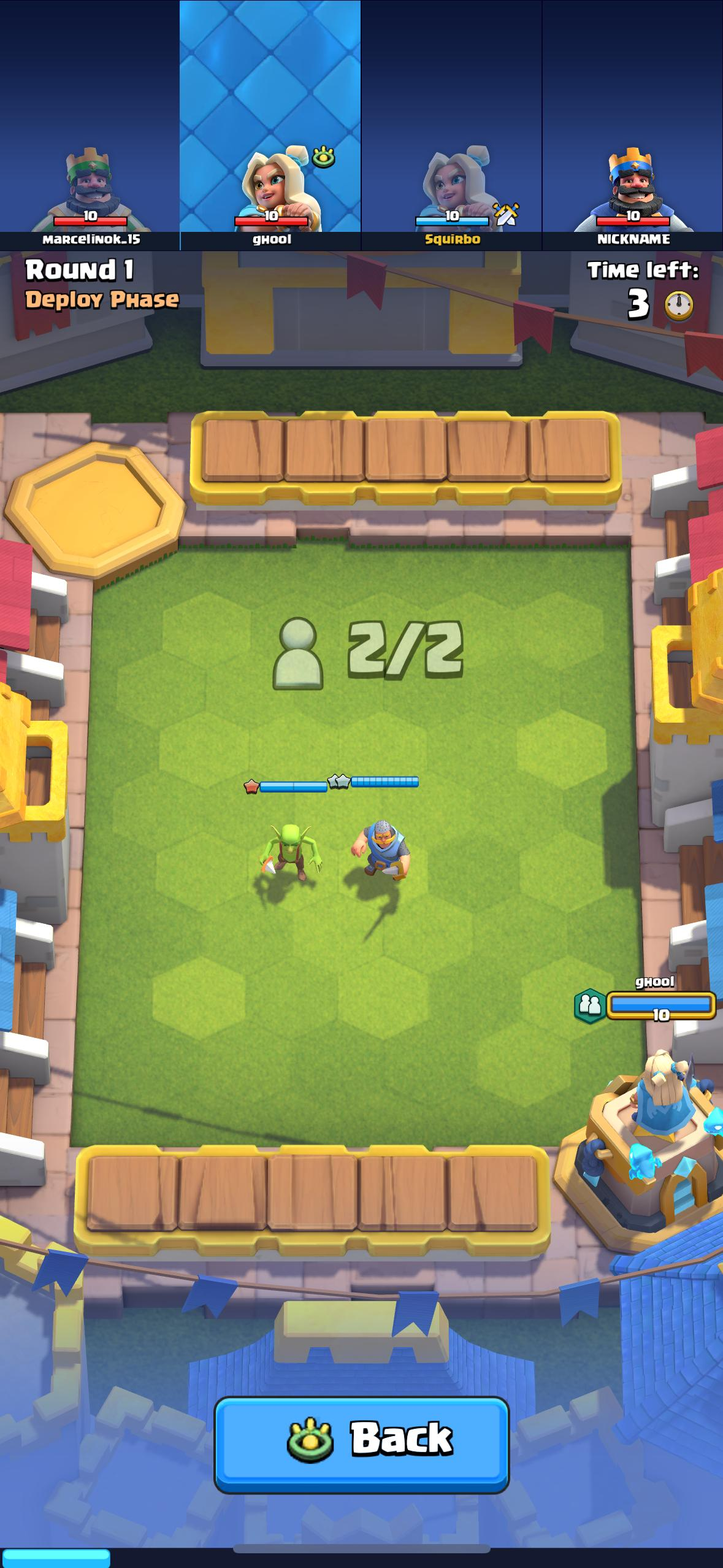goblin: (260, 817, 325, 894)
knight: (343, 815, 416, 886)
